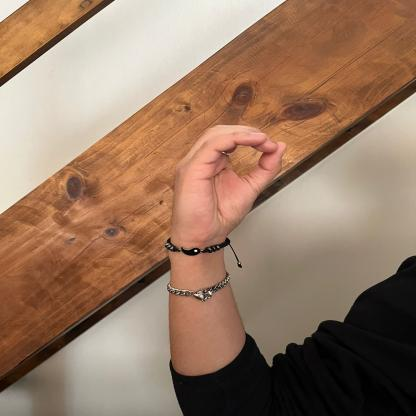O: (166, 116, 286, 247)
